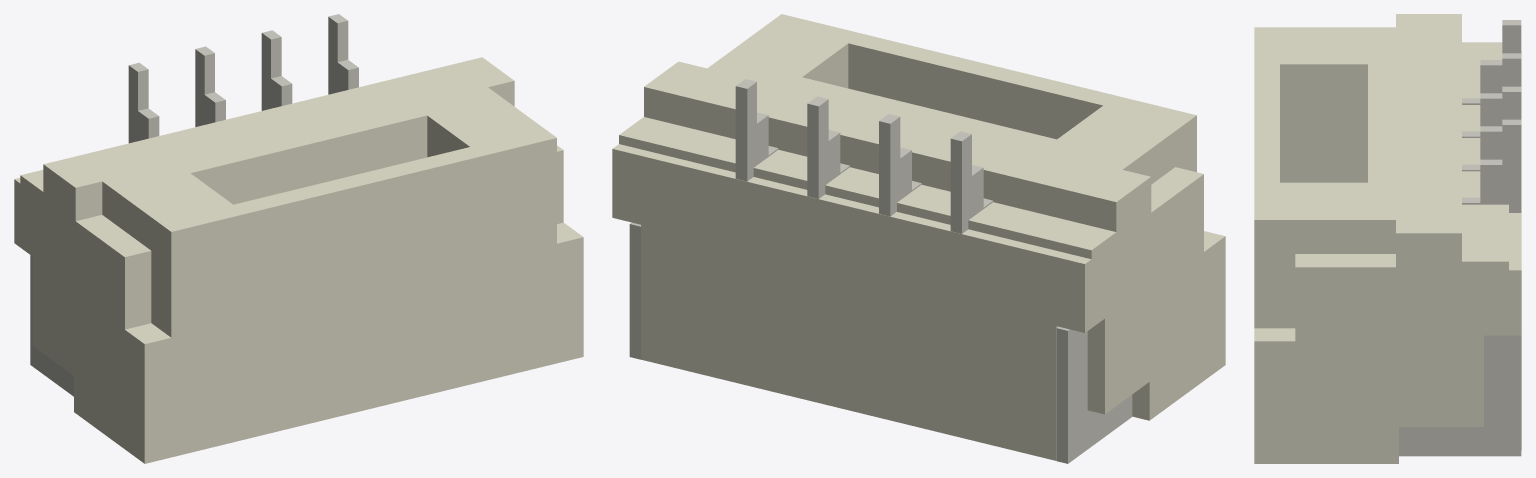
Rendered from JST_GH_SM04B-GHS-TB_1x04-1MP_P1.25mm_Horizontal.glb.
3 views of the same model, side by side, from view 1: azimuth 30°, elevation 25°; view 2: azimuth 150°, elevation 25°; view 3: azimuth 270°, elevation 25° (orthographic). The views are drawn at different scales.
Visible parts, largest first — view 1: JST_SM04B_GHS_TB_91d8aa, JST_SM04B_GHS_TB_47aec2; view 2: JST_SM04B_GHS_TB_91d8aa, JST_SM04B_GHS_TB_47aec2; view 3: JST_SM04B_GHS_TB_91d8aa, JST_SM04B_GHS_TB_47aec2.
Part boxes in pixels (<box>): JST_SM04B_GHS_TB_91d8aa: <box>14,57,583,463</box>; JST_SM04B_GHS_TB_47aec2: <box>30,14,358,396</box>; JST_SM04B_GHS_TB_91d8aa: <box>612,14,1225,460</box>; JST_SM04B_GHS_TB_47aec2: <box>629,79,1132,463</box>; JST_SM04B_GHS_TB_91d8aa: <box>1254,14,1521,463</box>; JST_SM04B_GHS_TB_47aec2: <box>1399,20,1521,456</box>.
Size of the model in its own units: 0.00825 by 0.00495 by 0.00425.
